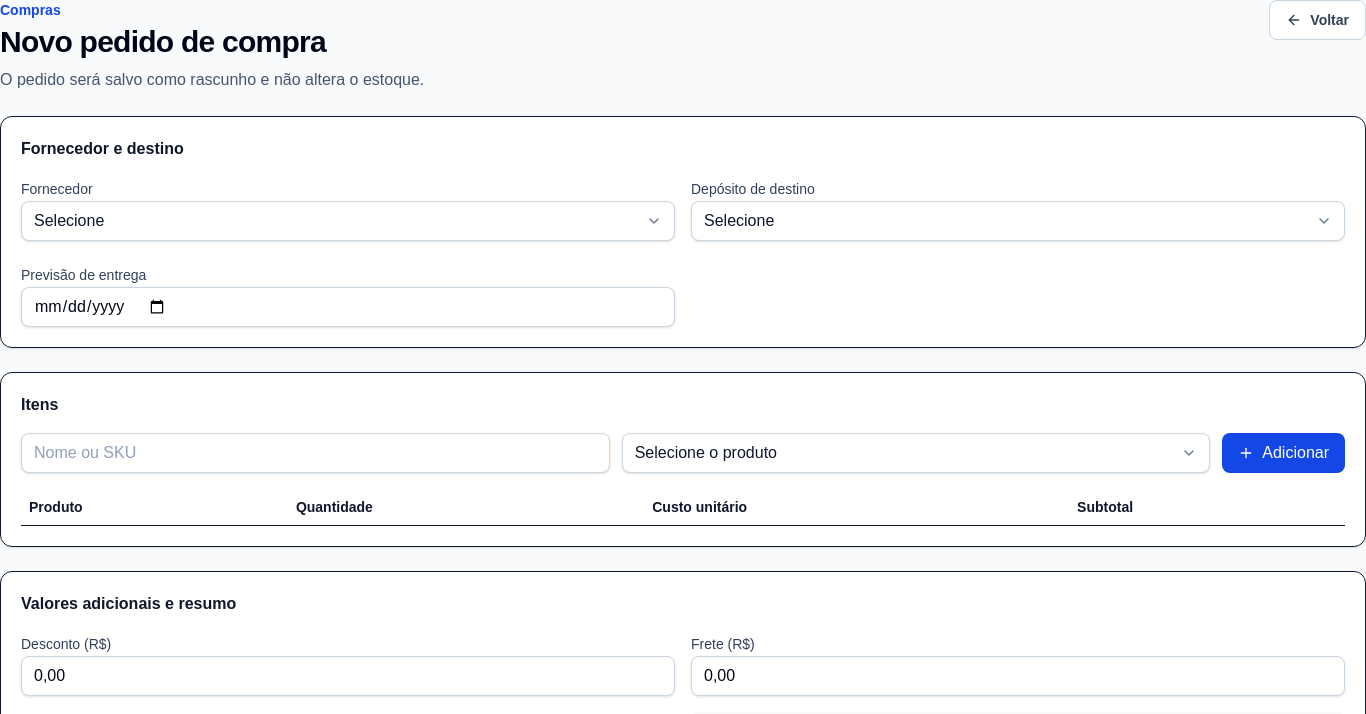
PurchaseOrderFormPage › organiza o formulário dedicado e adiciona/remove produto sem duplicar
The width and height of the screenshot is (1366, 714).
Expected: the heading "Fornecedor e destino" is shown, [21,140,184,157]
Expected: the heading "Itens" is shown, [21,396,58,413]
Step 1. Click the dropdown labelled "produto" → x=706, y=452, box [622,433,1210,473]
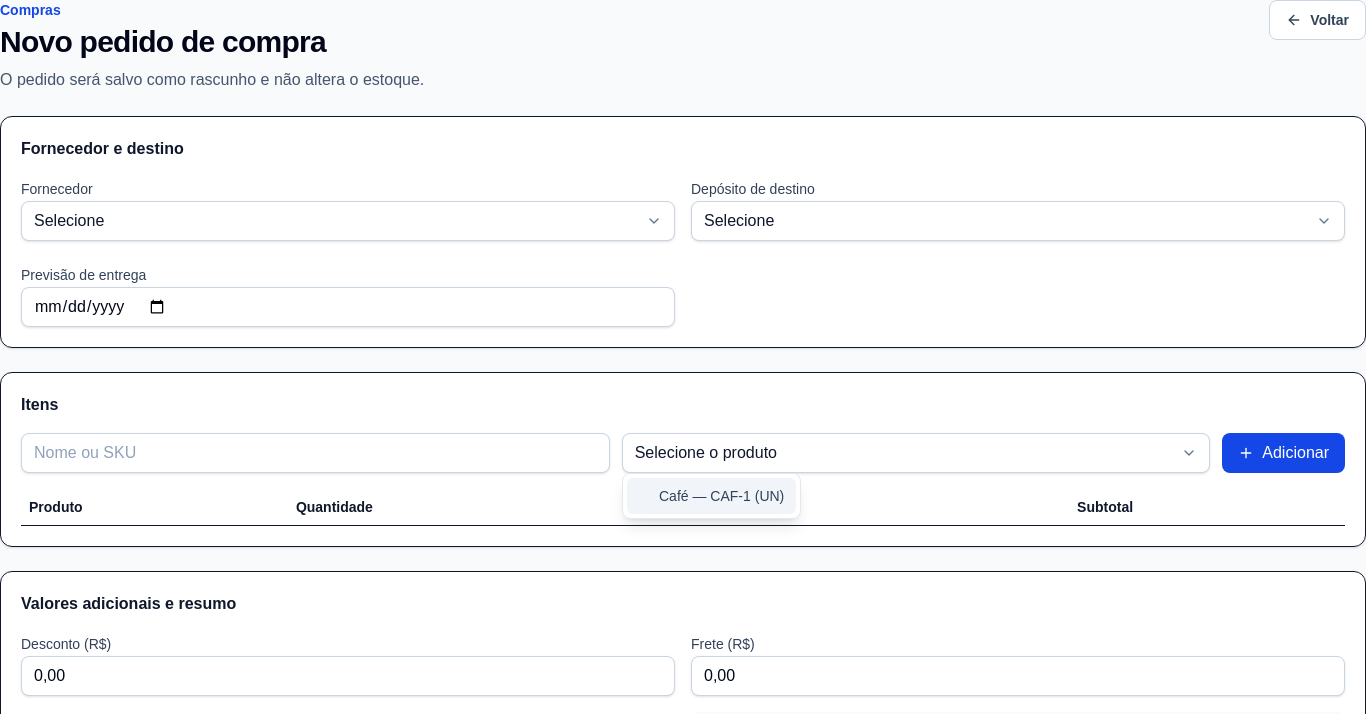
Step 2. Click the option "Café — CAF-1 (UN)" → x=712, y=496, box [627,478,796,514]
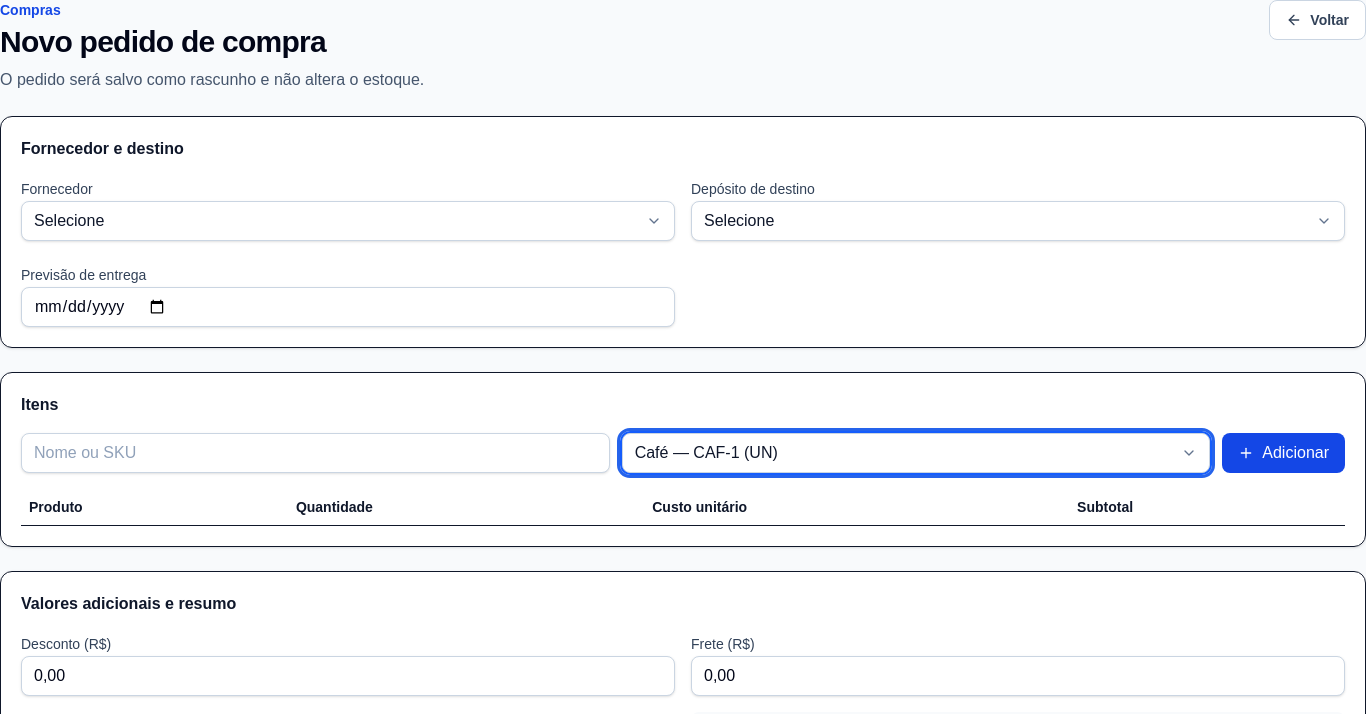
Step 3. Click the button "Adicionar" → x=1284, y=453, box [1222,433,1345,473]
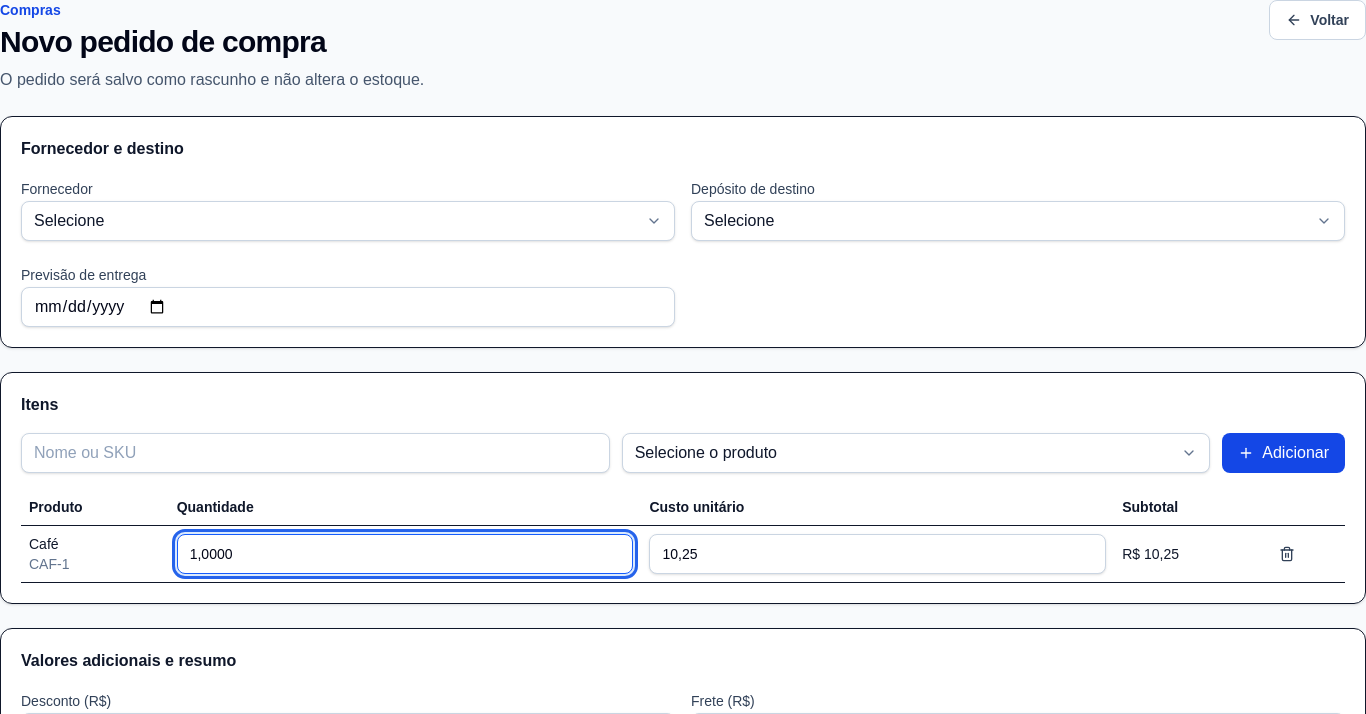
Now the text "Café" is shown, box [29,536,59,552]
Now the text "R$ 10,25" is shown 3 times
Step 4. Click the button named "Remover item 1" → x=1287, y=554, box [1269,536,1305,572]
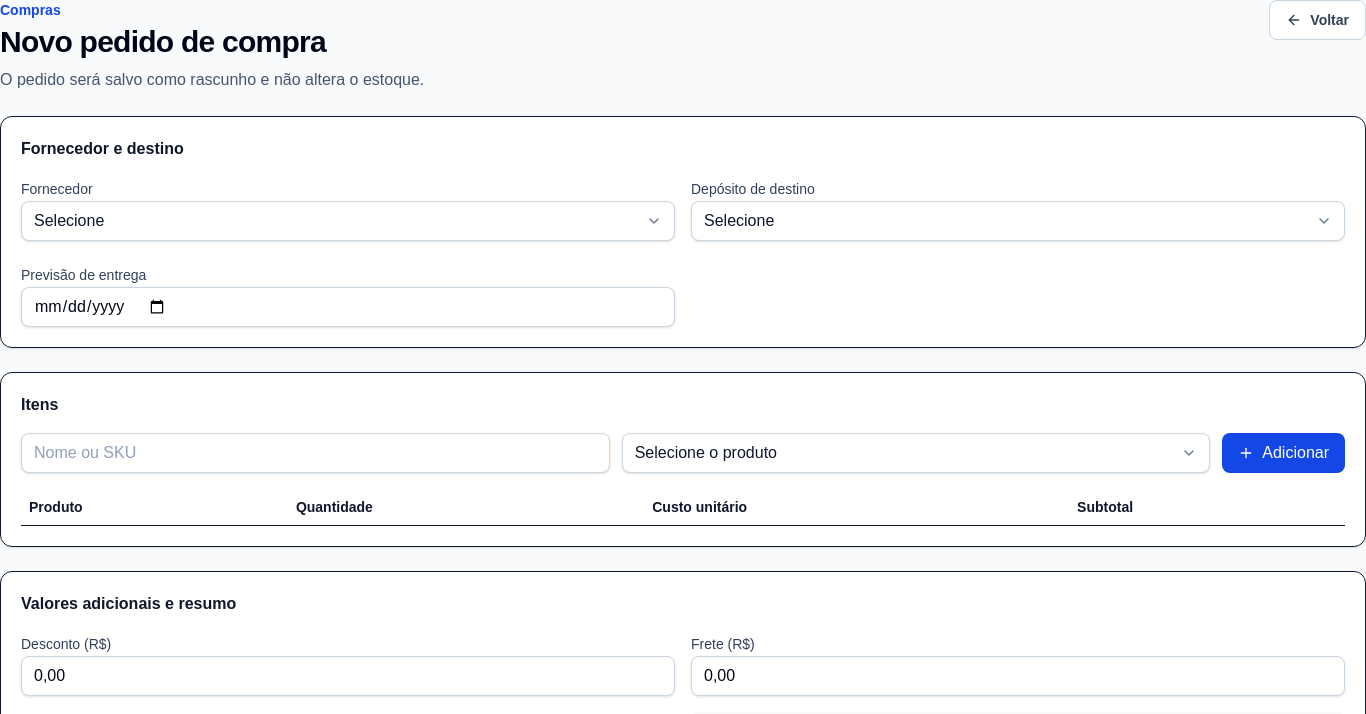
Now the text "CAF-1" is gone
